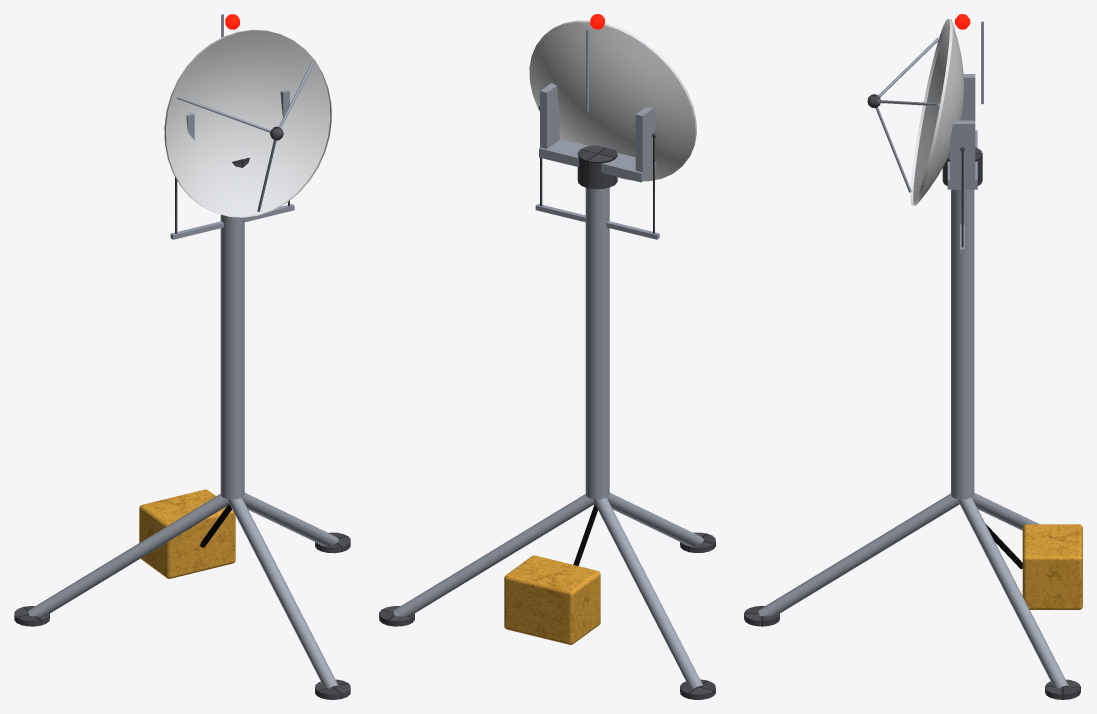
Rendered from CommsTerminal.glb.
3 views of the same model, side by side, from view 1: azimuth 30°, elevation 25°; view 2: azimuth 150°, elevation 25°; view 3: azimuth 270°, elevation 25° (orthographic).
Visible parts, largest first — view 1: CommsTerminal_Mesh; view 2: CommsTerminal_Mesh; view 3: CommsTerminal_Mesh.
Part boxes in pixels (x1=…): CommsTerminal_Mesh: x1=14, y1=14, x2=350, y2=699; CommsTerminal_Mesh: x1=379, y1=14, x2=715, y2=699; CommsTerminal_Mesh: x1=744, y1=14, x2=1082, y2=699.
Size of the model in its own units: 3.82 by 6.68 by 3.38.
6 materials, 2 textured.
